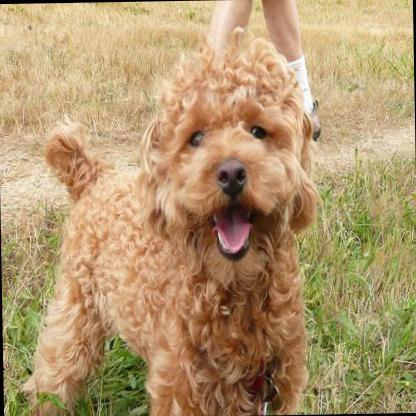toy_poodle: (11, 22, 324, 416)
